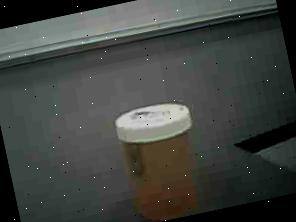Bottle B: (97, 87, 221, 222)
